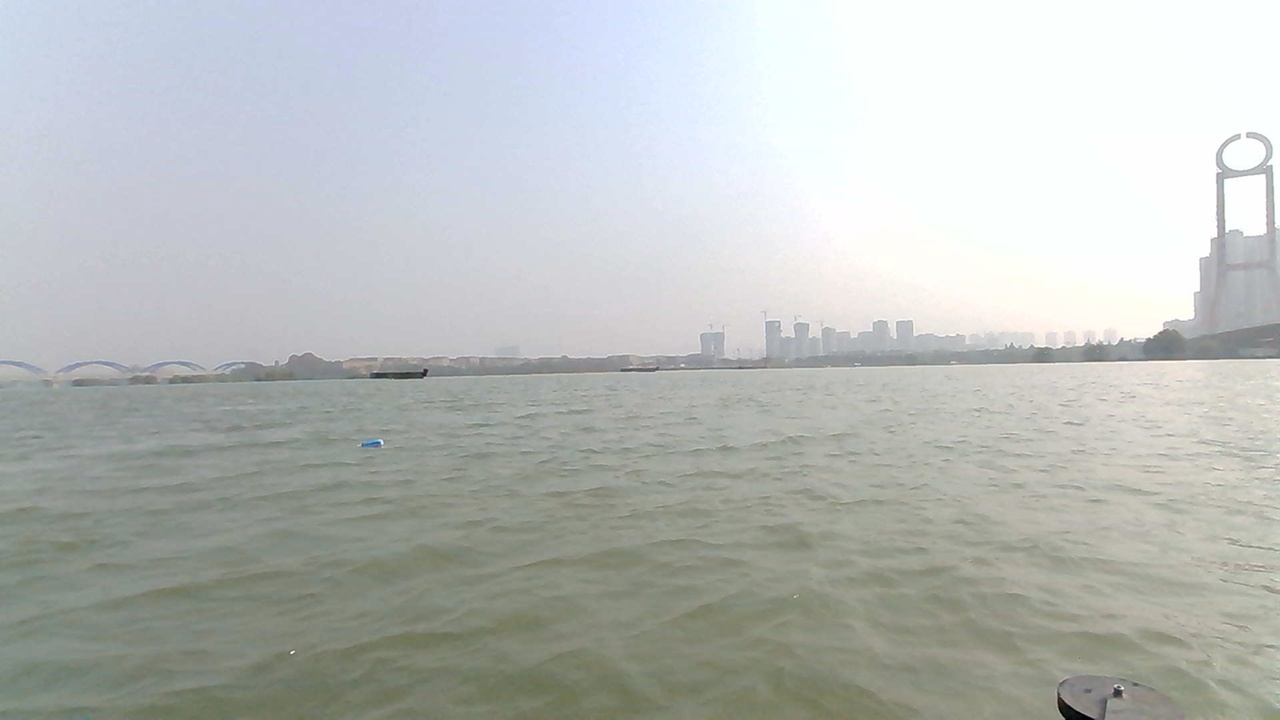bottle: (355, 437, 390, 454)
